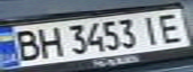3: (115, 16, 142, 48), (63, 21, 87, 55)
4: (84, 19, 106, 53)
5: (100, 18, 124, 52)
B: (6, 27, 45, 62)
E: (151, 10, 190, 44)
H: (33, 25, 66, 60)
I: (136, 12, 166, 46)
